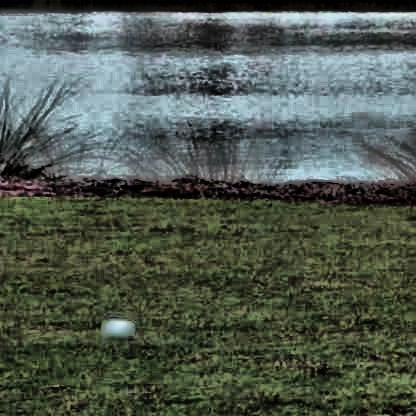golfball: (99, 315, 133, 335)
